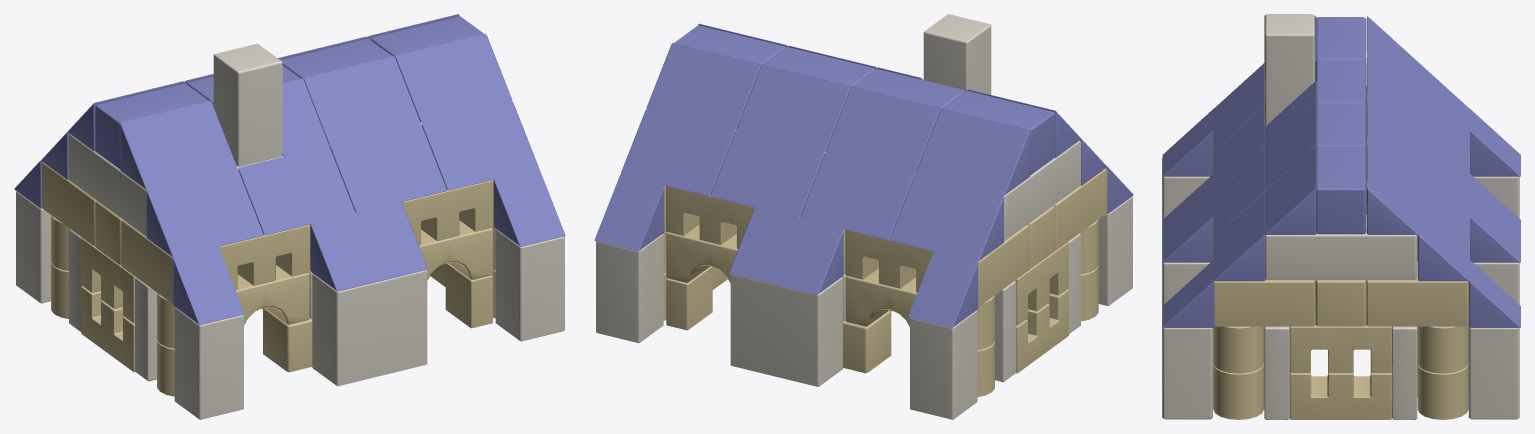
File: shield house.fbx
The picture shows the model from 3 angles, left to right: view 1: azimuth 30°, elevation 25°; view 2: azimuth 150°, elevation 25°; view 3: azimuth 270°, elevation 25°; orthographic projection. The views are drawn at different scales.
Parts seen in each view (by area): view 1: pCube563, pCube582, pCube583, pCube617, pCube626, pCube584, pCube585, pCube586, pCube620, pCube619, pCube589, pCube590 (+29 smaller); view 2: pCube627, pCube559, pCube567, pCube616, pCube564, pCube566, pCube565, pCube614, pCube613, pCube615, pCube571, pCube572 (+29 smaller); view 3: pCube606, pCube595, pCube571, pCube592, pCube594, pCube589, pCube626, pCube624, pCube593, pCube586, pCube565, pCube620 (+32 smaller).
Part boxes in pixels (x1,y1,x2,y2): pCube563: (312, 270, 427, 386); pCube582: (310, 202, 427, 291); pCube583: (146, 168, 263, 257); pCube617: (120, 101, 236, 189); pCube626: (213, 43, 282, 166); pCube584: (238, 146, 355, 235); pCube585: (330, 123, 446, 212); pCube586: (422, 101, 538, 190); pCube620: (395, 33, 512, 122); pCube619: (303, 56, 420, 145); pCube589: (495, 229, 564, 341); pCube590: (174, 307, 243, 419); pCube627: (730, 274, 842, 386); pCube559: (729, 207, 843, 294); pCube567: (889, 174, 1003, 261); pCube616: (915, 108, 1029, 195); pCube564: (710, 130, 824, 217); pCube566: (800, 152, 914, 239); pCube565: (621, 109, 734, 196); pCube614: (736, 65, 850, 152); pCube613: (646, 43, 760, 130); pCube615: (826, 86, 940, 173); pCube571: (596, 233, 663, 343); pCube572: (910, 310, 977, 419); pCube606: (1265, 215, 1417, 280); pCube595: (1366, 261, 1468, 326); pCube571: (1468, 309, 1519, 419); pCube592: (1289, 372, 1391, 419); pCube594: (1214, 279, 1315, 326); pCube589: (1162, 309, 1212, 419); pCube626: (1264, 14, 1315, 125); pCube624: (1316, 146, 1366, 234); pCube593: (1289, 325, 1391, 372); pCube586: (1213, 192, 1265, 281); pCube565: (1418, 192, 1469, 281); pCube620: (1265, 146, 1316, 234).
Size of the model in its own units: 144 by 108 by 126.
